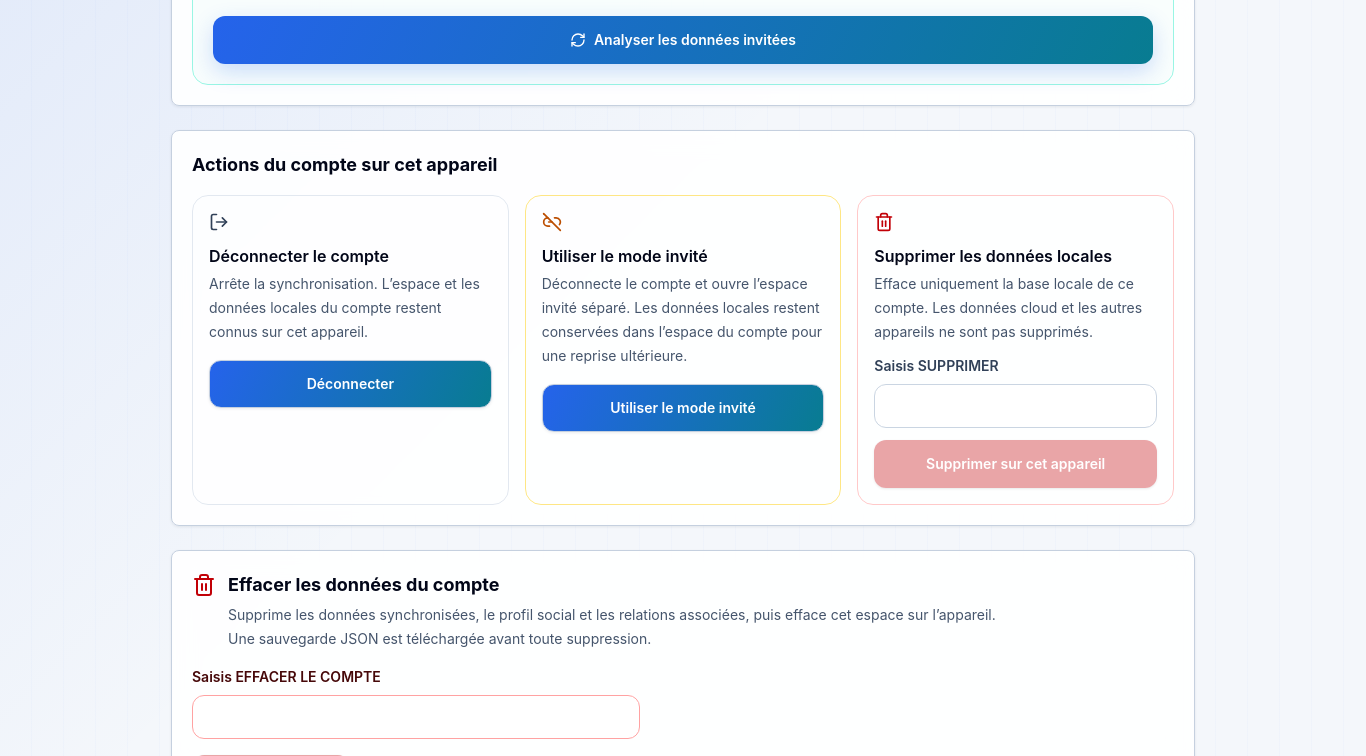
Scenario: AccountDevicesPage › garde une erreur de déconnexion sur la page sans recharger
The width and height of the screenshot is (1366, 756).
(page scrolled)
Step 1. Click the button "Déconnecter" → point(350, 384), box top-left (209, 360), bottom-right (492, 408)
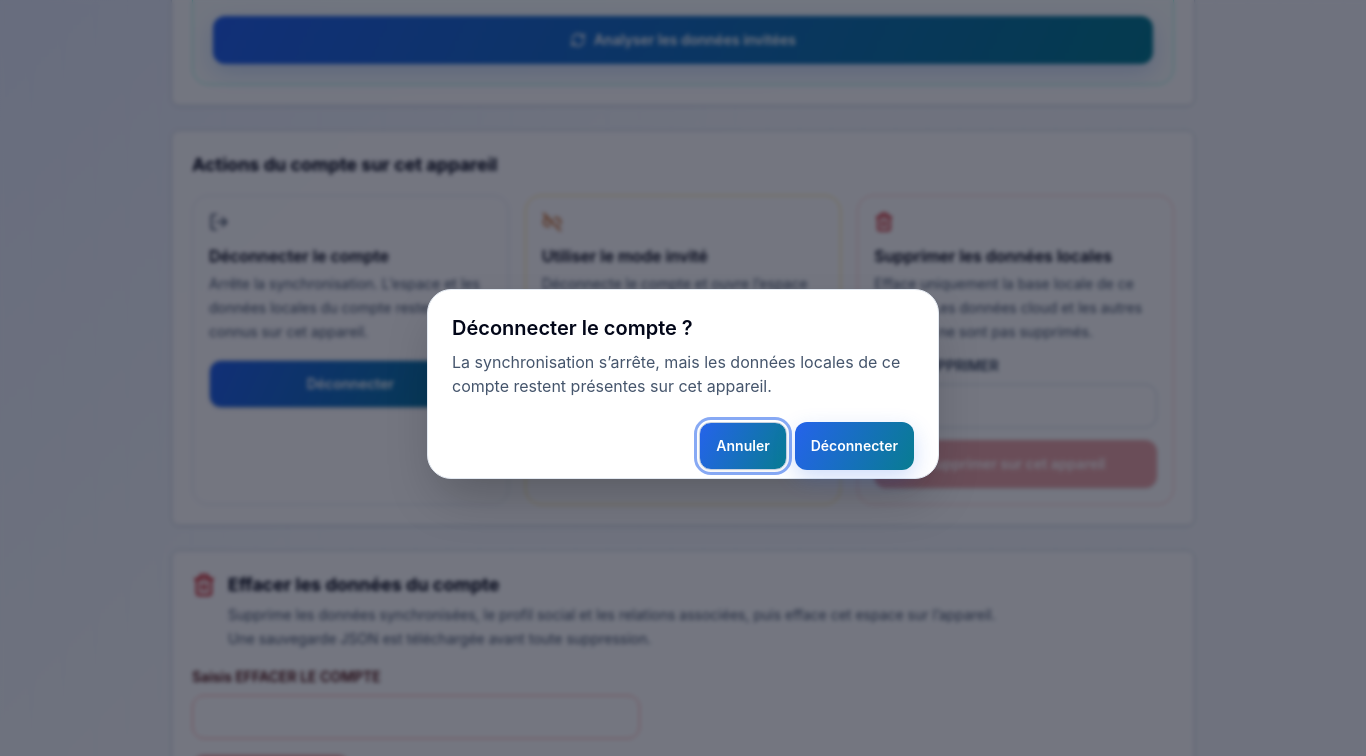
Step 2. Click the button "Déconnecter" → point(854, 446), box top-left (795, 422), bottom-right (914, 470)
(page scrolled)
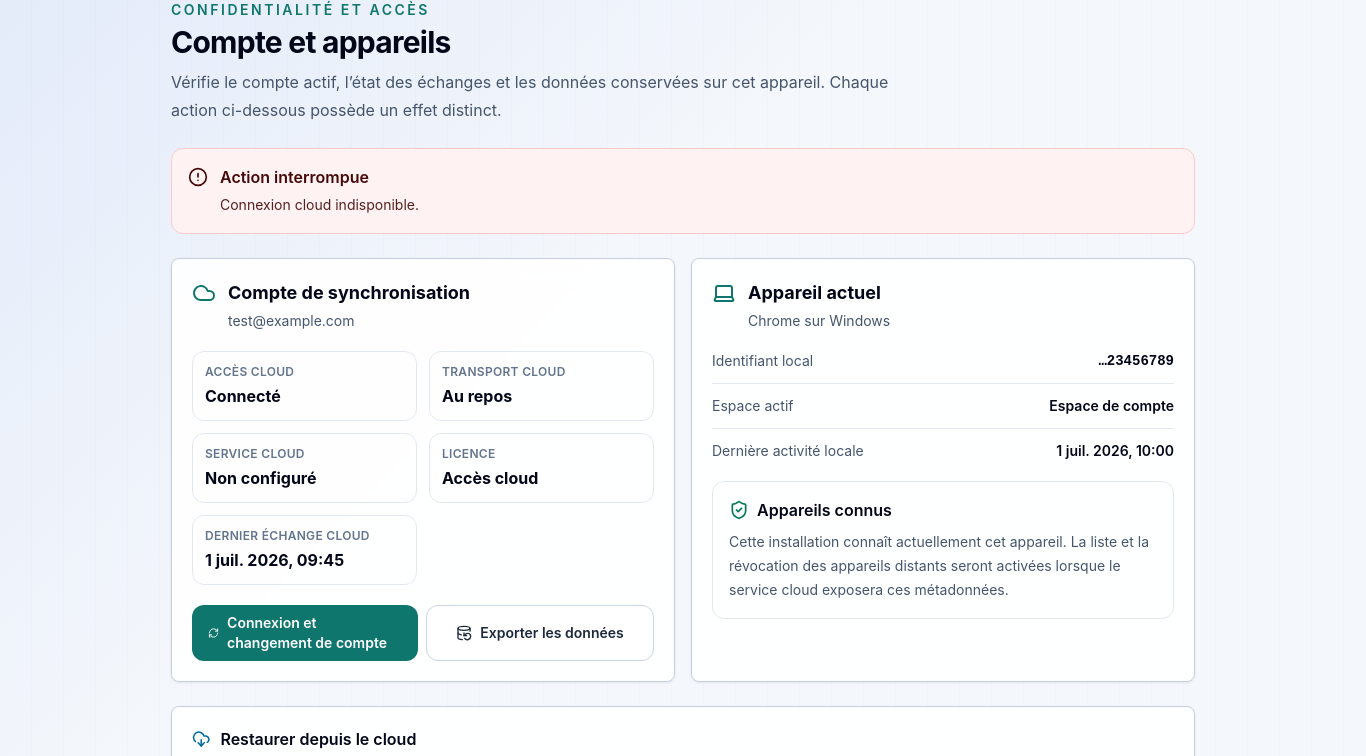
expect the text "Connexion cloud indisponible." is shown: met, box top-left (220, 193), bottom-right (419, 217)
expect the text "Action interrompue" is shown: met, box top-left (220, 167), bottom-right (369, 187)
